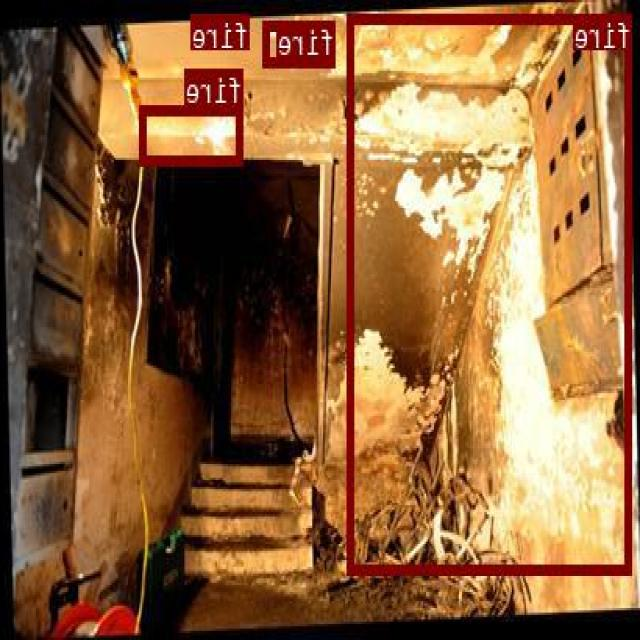fire: (350, 14, 632, 574), (141, 104, 244, 163), (264, 19, 337, 65), (218, 13, 250, 34)
